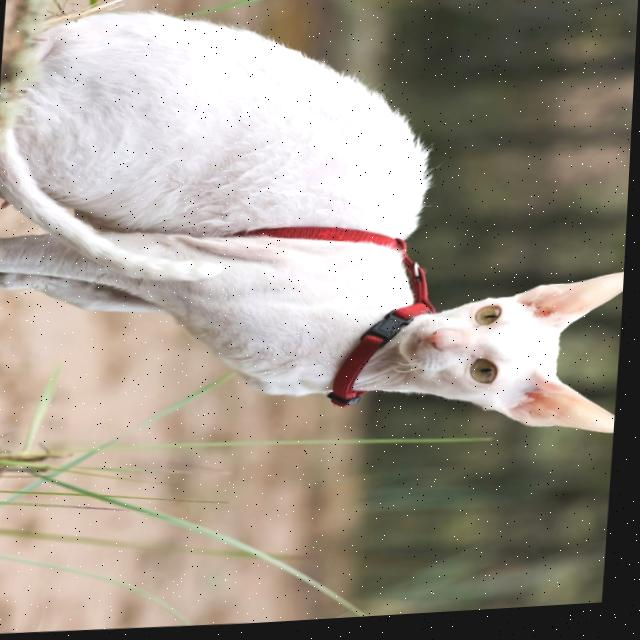Cornish Rex: (0, 0, 640, 476)
